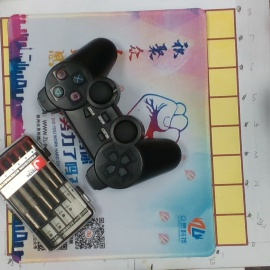remote: (35, 38, 183, 190)
